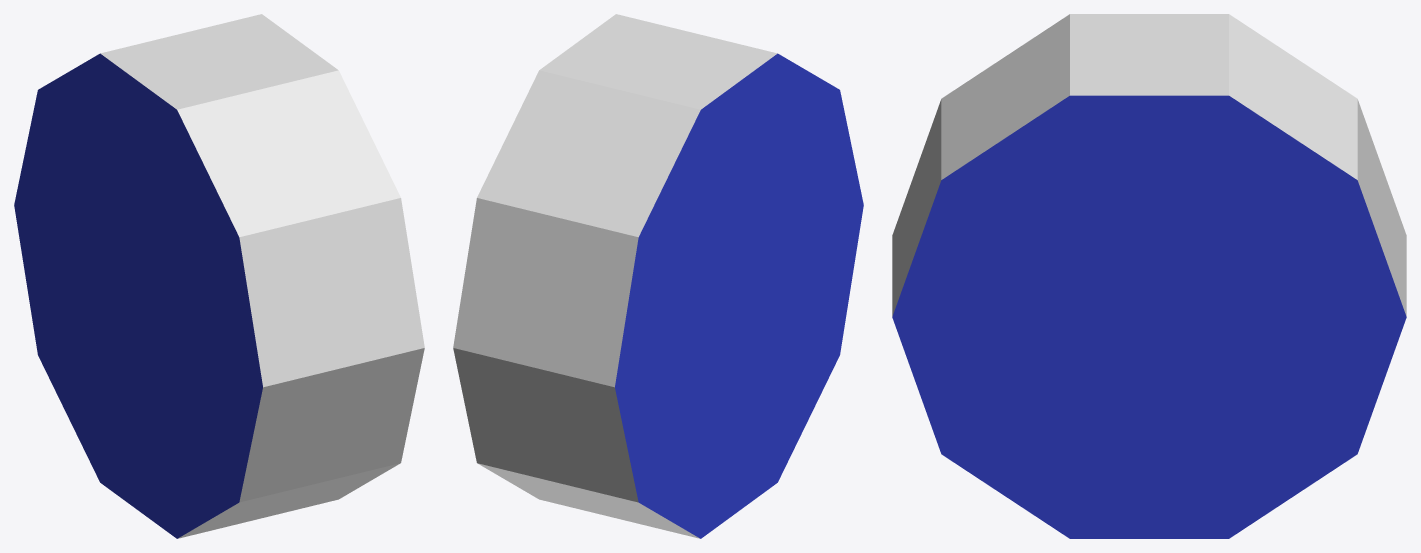
The model's file is БАРАБАН.fbx.
3 views of the same model, side by side, from view 1: azimuth 30°, elevation 25°; view 2: azimuth 150°, elevation 25°; view 3: azimuth 270°, elevation 25° (orthographic). The views are drawn at different scales.
Visible parts, largest first — view 1: Cylinder; view 2: Cylinder; view 3: Cylinder.
Boxes of the visible parts, <box> form: Cylinder: <box>14,14,424,538</box>; Cylinder: <box>453,14,863,538</box>; Cylinder: <box>892,14,1406,538</box>.
Bounding box in the file's own units: 600 × 1522 × 1600.
